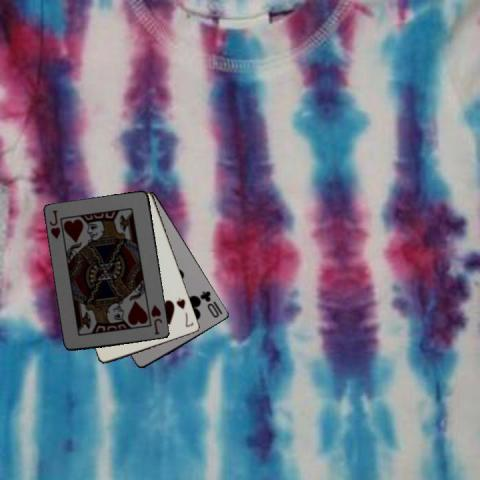10c: (197, 288, 224, 319)
7s: (174, 294, 196, 328)
Jh: (148, 302, 164, 336), (47, 207, 62, 241)
